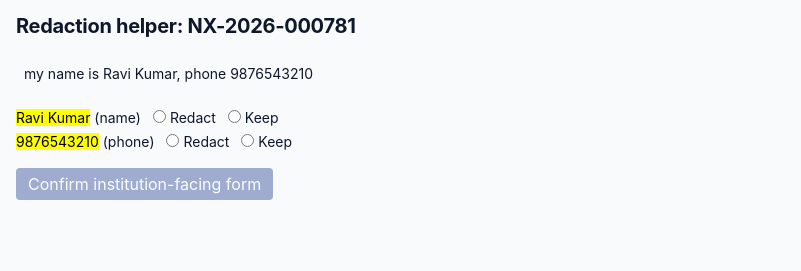
Test: [A-N62] the redaction helper enables Confirm only after the officer decides every highlight
This screenshot has width=801, height=271.
Expected: the button "Confirm institution-facing form" is disabled, [16,168,273,200]
Click the radio button with aria-label "Redact Ravi Kumar" at (160, 116), box [153,110,166,123]
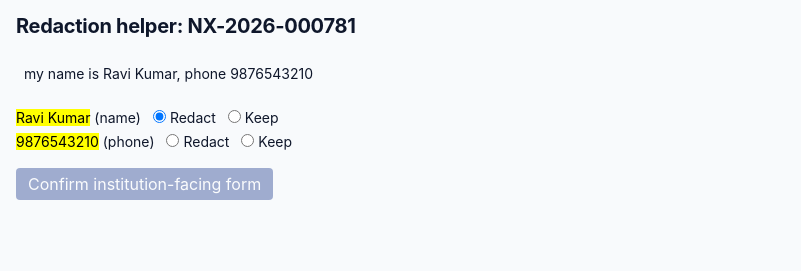
Expected: the button "Confirm institution-facing form" is disabled, [16,168,273,200]
Click the radio button with aria-label "Keep 9876543210" at (248, 140), box [241,134,254,147]
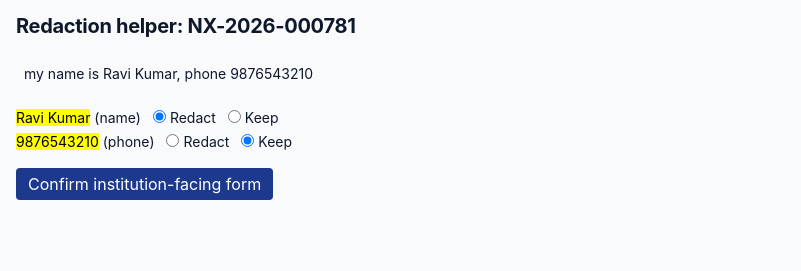
Expected: the button "Confirm institution-facing form" is enabled
Click the button "Confirm institution-facing form" at (145, 184), box [16,168,273,200]
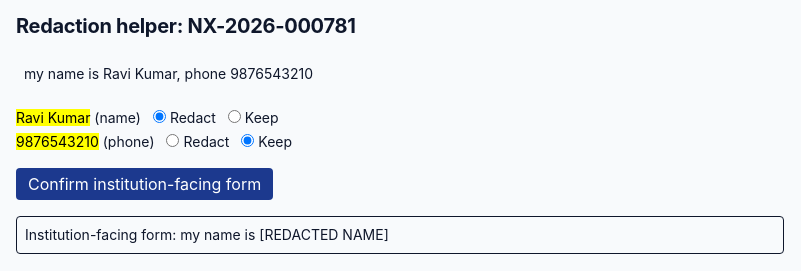
Expected: the text "Institution-facing form: my name is [REDACTED NAME]" is shown, [16,216,784,254]
